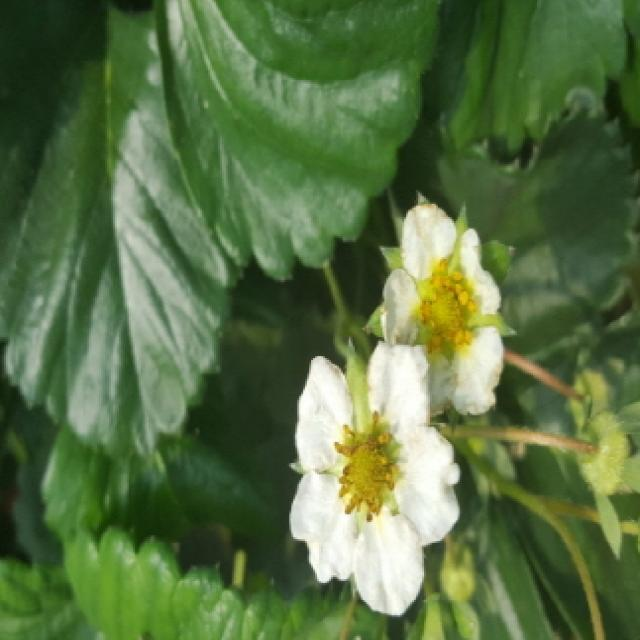Blossom Blight: (322, 410, 408, 527)
